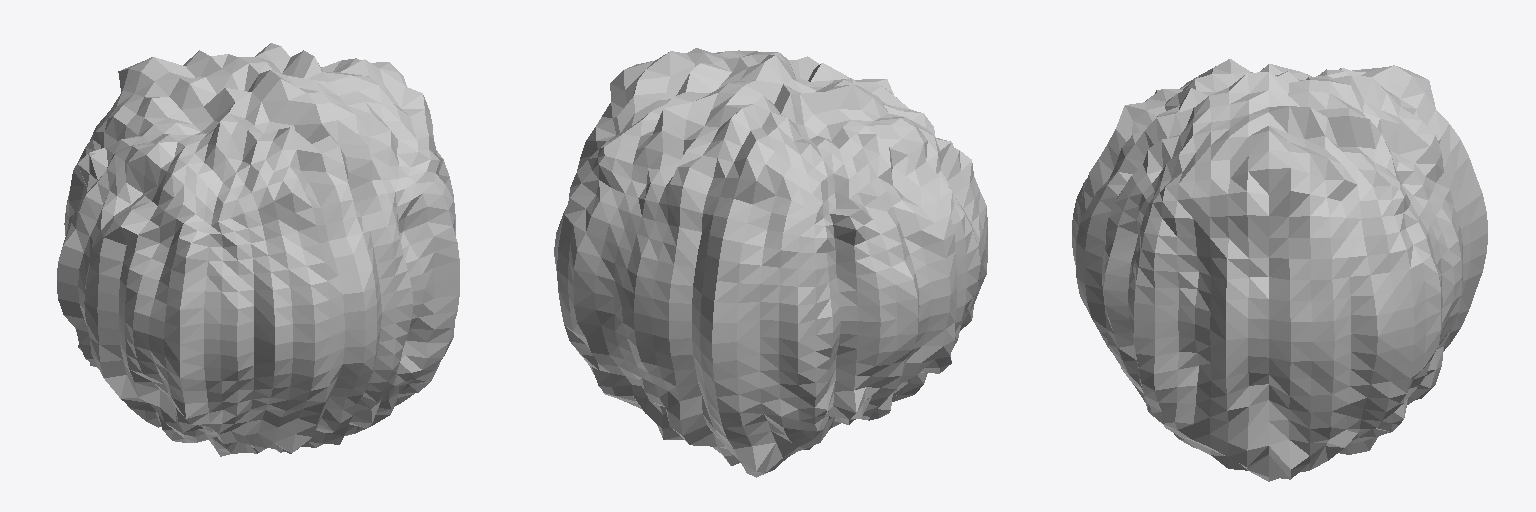
The model's file is asteroid65.obj.
The picture shows the model from 3 angles: view 1: azimuth 30°, elevation 25°; view 2: azimuth 150°, elevation 25°; view 3: azimuth 270°, elevation 25°; orthographic projection.
Parts seen in each view (by area): view 1: Cube_Cube.002; view 2: Cube_Cube.002; view 3: Cube_Cube.002.
Part boxes in pixels (bbox=[...]): Cube_Cube.002: bbox=[57, 43, 459, 456]; Cube_Cube.002: bbox=[554, 48, 987, 477]; Cube_Cube.002: bbox=[1072, 59, 1487, 481].
Size of the model in its own units: 1.71 by 1.74 by 1.74.